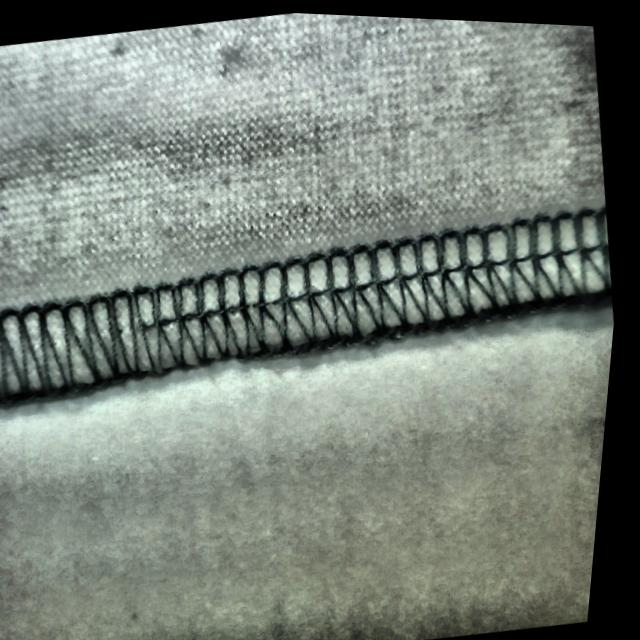Stitch: (0, 232, 371, 422)
